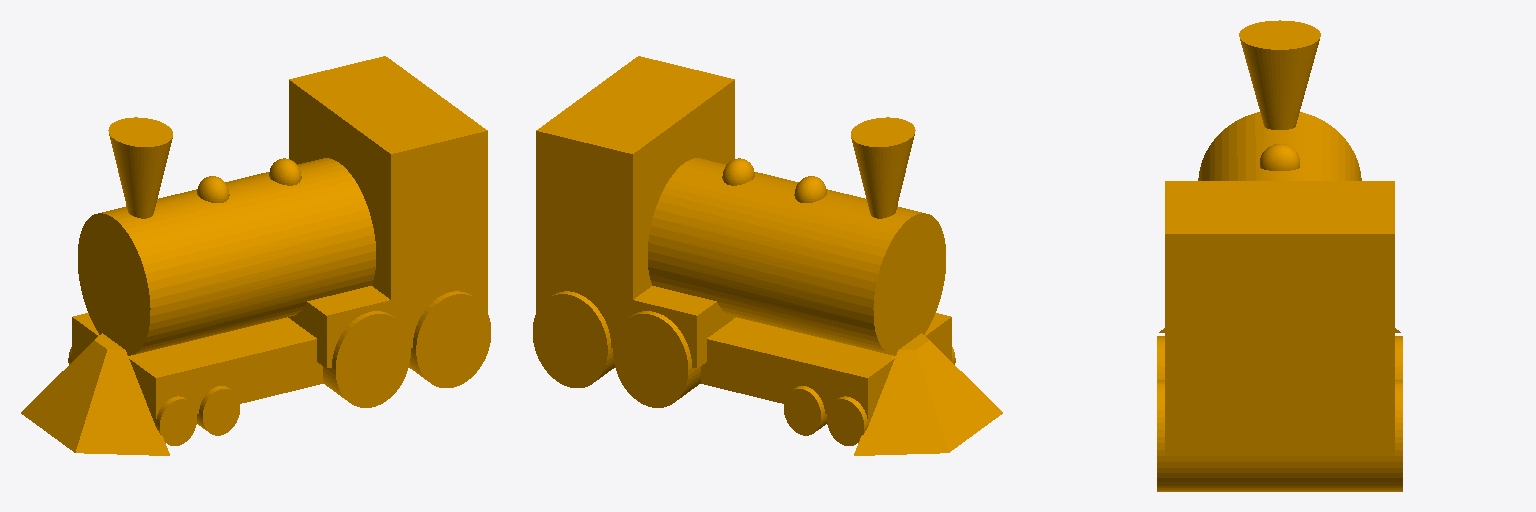
URDF robot description (104738):
<?xml version='1.0'?>

<robot name="104738">
    <static>false</static>
    <link name="link">
        <inertial>
            <mass value="0.031435736540011874"/>
            <inertia ixx="1.835061887795262e-05" ixy="5.53938639900595e-13" ixz="-4.254928501441988e-06"
                     iyy="4.385116787147138e-05" iyz="1.53114913447732e-13" izz="3.842984072926785e-05"/>
        </inertial>
        <collision name="collision">
            <geometry>
                <mesh filename="package://miscnet/train/104738/collision_model_vhacd.obj"/>
            </geometry>
        </collision>
        <visual name="visual">
            <geometry>
                <mesh filename="package://miscnet/train/104738/visual_model.obj"/>
            </geometry>
        </visual>
    </link>
</robot>

--- Facts derived from the render (not from the file) ---
3 views of the same robot in one strip: view 1: azimuth 30°, elevation 25°; view 2: azimuth 150°, elevation 25°; view 3: azimuth 270°, elevation 25° (orthographic).
Robot: 104738 — 1 links, 0 joints (none); root link link; default pose: all joints at 0.
Links seen in each view (by area): view 1: link; view 2: link; view 3: link.
Boxes of the visible links, left/top/right/bottom form: link: left=21, top=56, right=490, bottom=455; link: left=533, top=56, right=1002, bottom=455; link: left=1157, top=20, right=1402, bottom=491.
Size in the robot's own frame: 0.1229 by 0.06 by 0.084 metres.
1 mesh visuals loaded from 1 distinct referenced files (1 OBJ).
